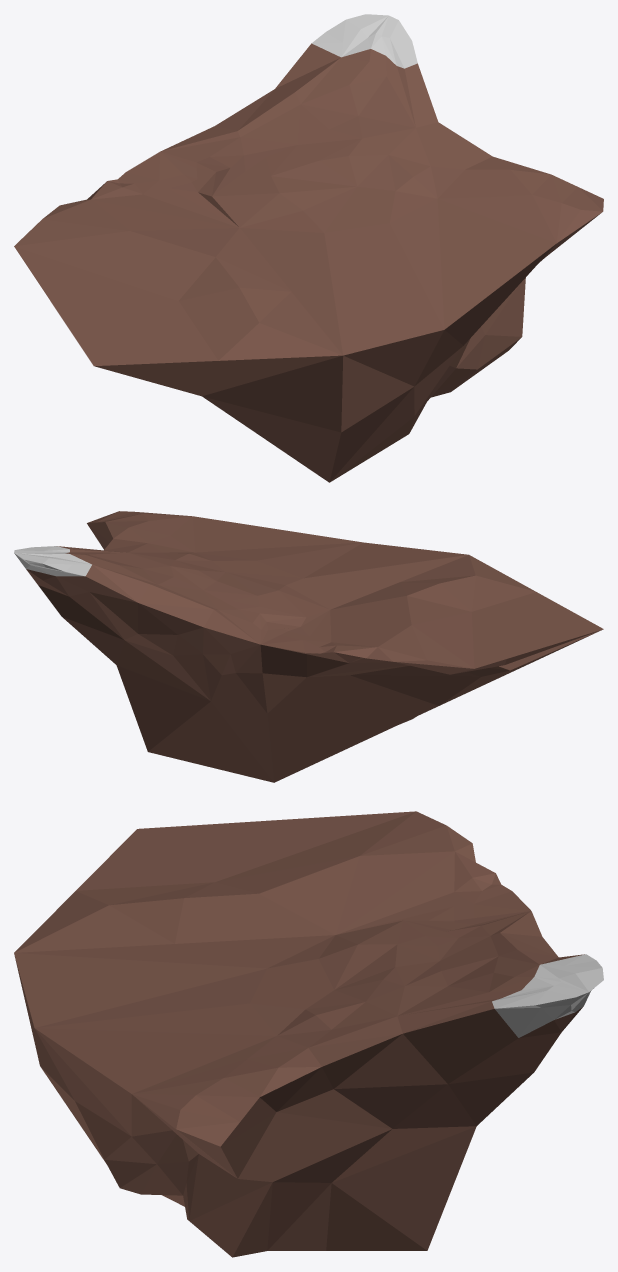
3 renders of one model, top to bottom at view 1: azimuth 30°, elevation 25°; view 2: azimuth 150°, elevation 25°; view 3: azimuth 270°, elevation 25°, orthographic. The views are drawn at different scales.
Parts seen in each view (by area): view 1: group489161433; view 2: group489161433; view 3: group489161433.
Part boxes in pixels (bbox=[...]): group489161433: bbox=[14, 14, 603, 482]; group489161433: bbox=[14, 511, 603, 782]; group489161433: bbox=[14, 811, 603, 1257].
Size of the model in its own units: 1.43 by 0.6678 by 1.08.
